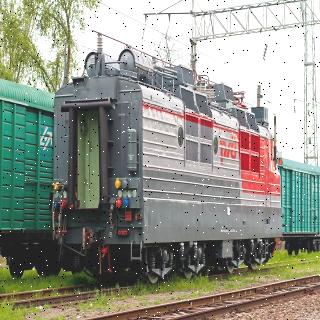poezd: (56, 72, 282, 271)
